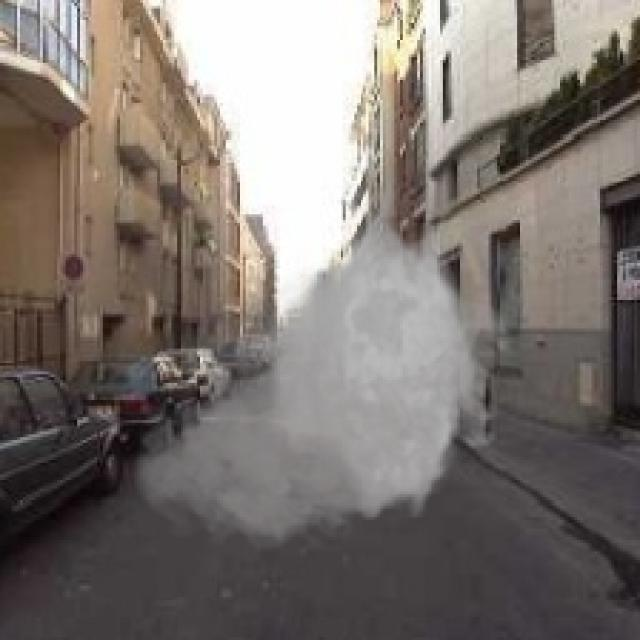Smoke: (128, 168, 523, 560)
